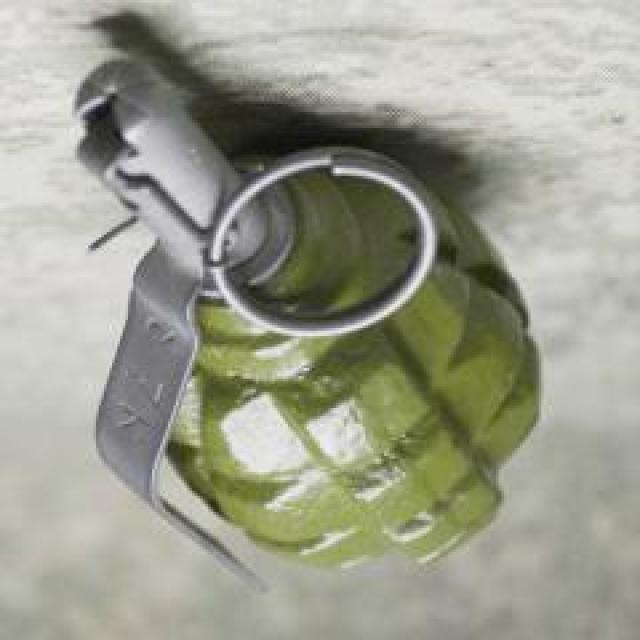grenade: (81, 57, 540, 593)
